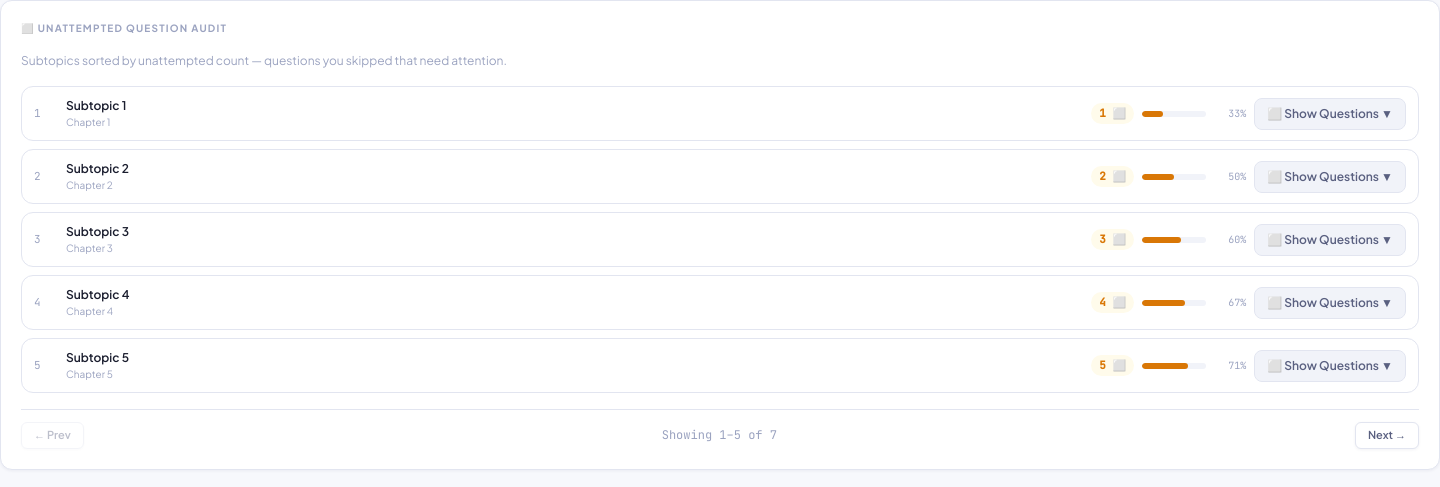
Test: UnattemptedAudit — pagination with 15 items › advances to page 2 when Next is clicked
Click the button "Next →" at (1387,435), box x1=1355 y1=422 x2=1419 y2=448
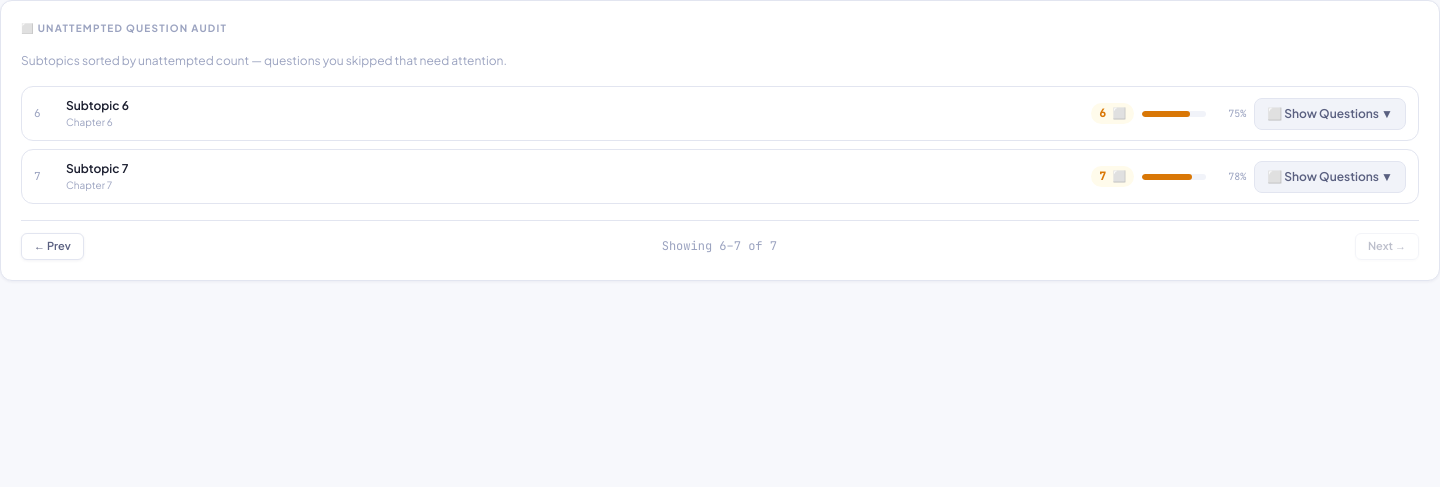
expect the text "Subtopic 1" is gone: met
expect the text "Subtopic 6" is shown: met, box x1=66 y1=98 x2=129 y2=113
